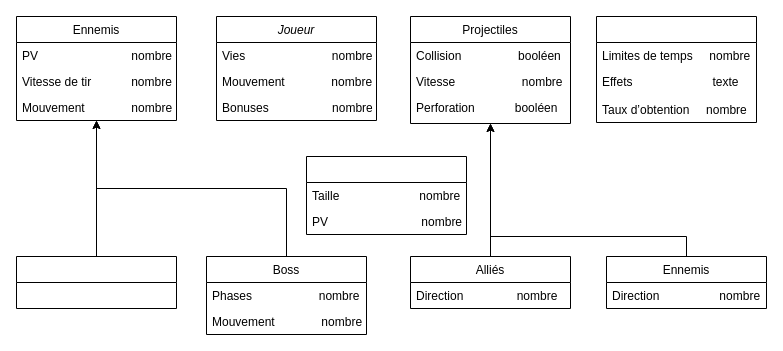
The diagram is 783 pixels wide and 351 high, and some of its shapes have lost their labels. The box of each missing label's shape, as (x1, y1, x2, y2) in pixels:
Bonuses: (596, 16, 756, 122)
Couverts: (306, 156, 466, 234)
Normaux: (16, 256, 176, 308)
